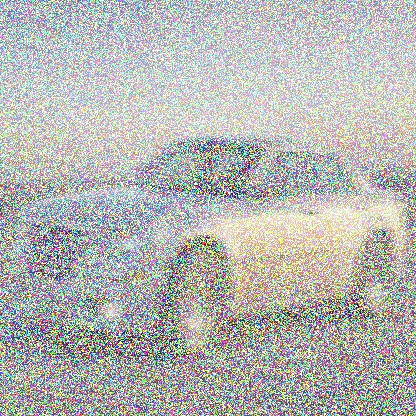Vehicle: (5, 132, 411, 362)
